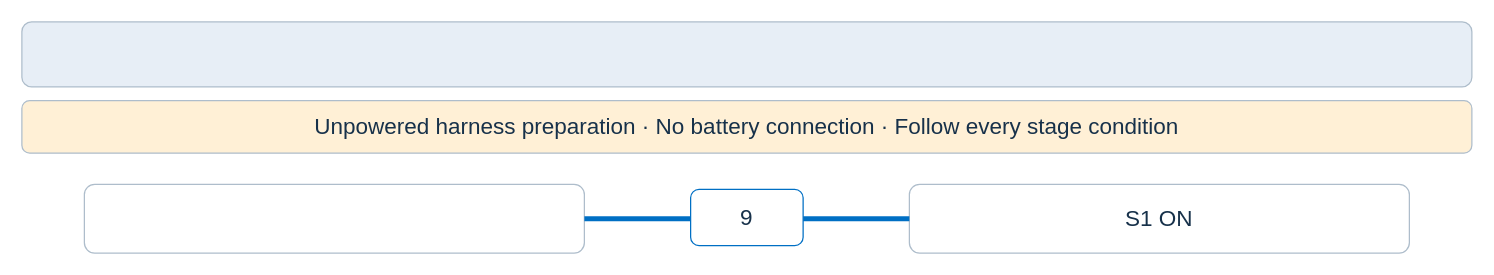
This 1494x275 diagram has some shape labels left out. Each missing label, with the centre of its shape:
5 · Connect the switch control wire: (x=746, y=54)
XIAO D3 / GPIO4: (x=333, y=218)
